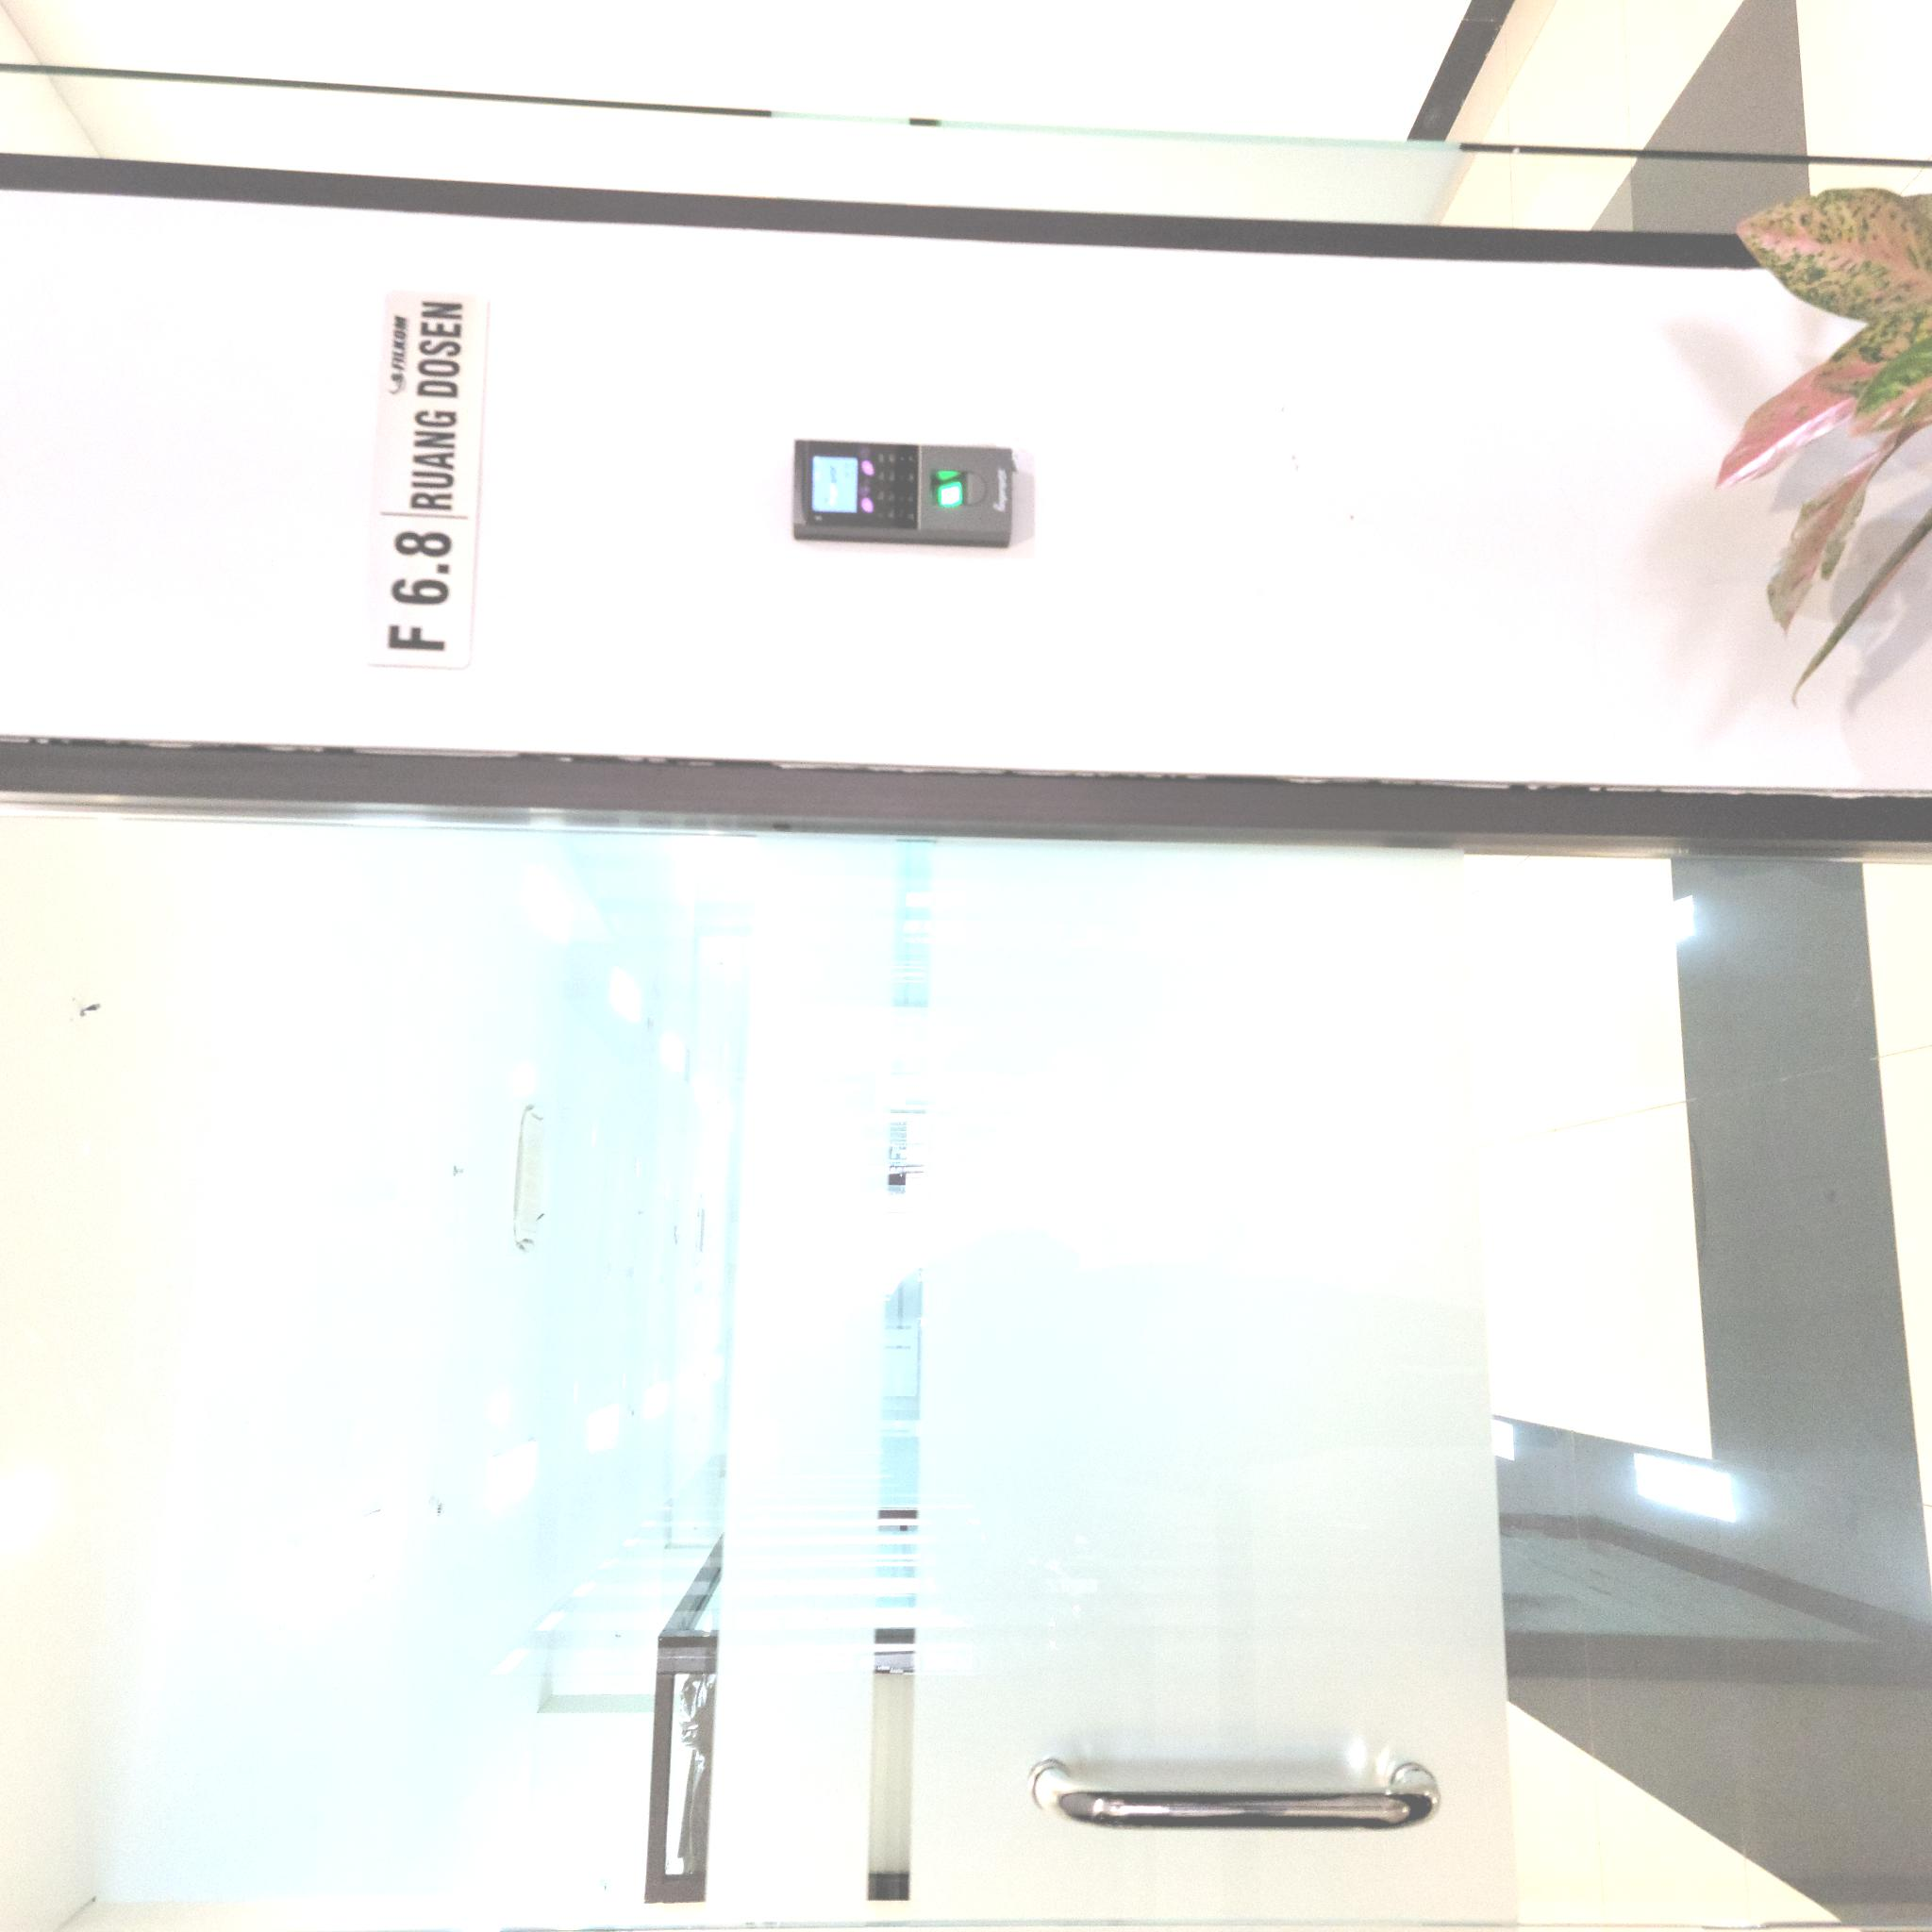plate: (1263, 361, 1642, 490)
